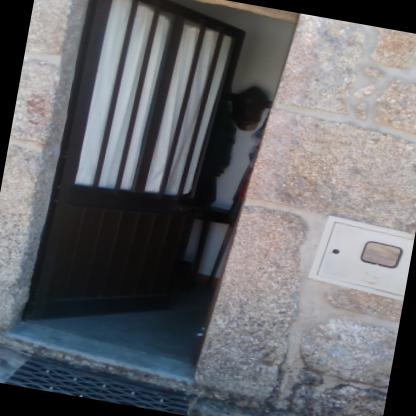semi: (10, 0, 305, 394)
